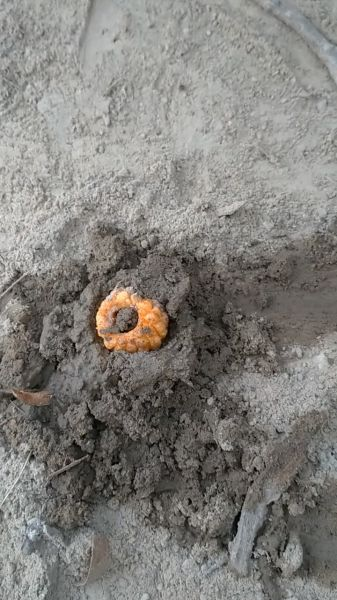eggs: (90, 283, 171, 359)
